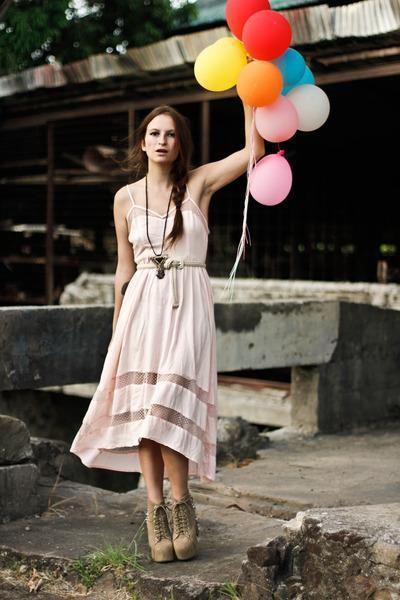dress: (70, 185, 227, 485)
shoe: (145, 492, 203, 560)
